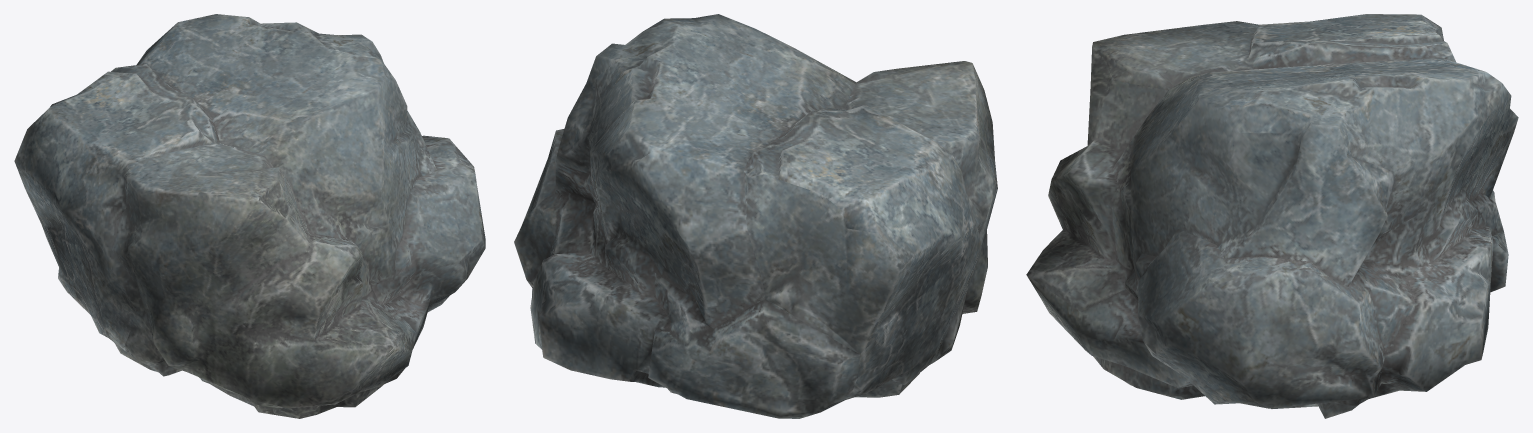
File: PBR-Rocks-13-small.fbx
The picture shows the model from 3 angles, left to right: view 1: azimuth 30°, elevation 25°; view 2: azimuth 150°, elevation 25°; view 3: azimuth 270°, elevation 25°; orthographic projection. The views are drawn at different scales.
Parts seen in each view (by area): view 1: Rock_13_LOD0; view 2: Rock_13_LOD0; view 3: Rock_13_LOD0.
Boxes of the visible parts, bbox=[...] form: Rock_13_LOD0: bbox=[14, 14, 485, 418]; Rock_13_LOD0: bbox=[514, 14, 997, 418]; Rock_13_LOD0: bbox=[1026, 14, 1518, 418].
Size of the model in its own units: 270 by 194 by 264.
Materials: 1 (1 with a texture image).
